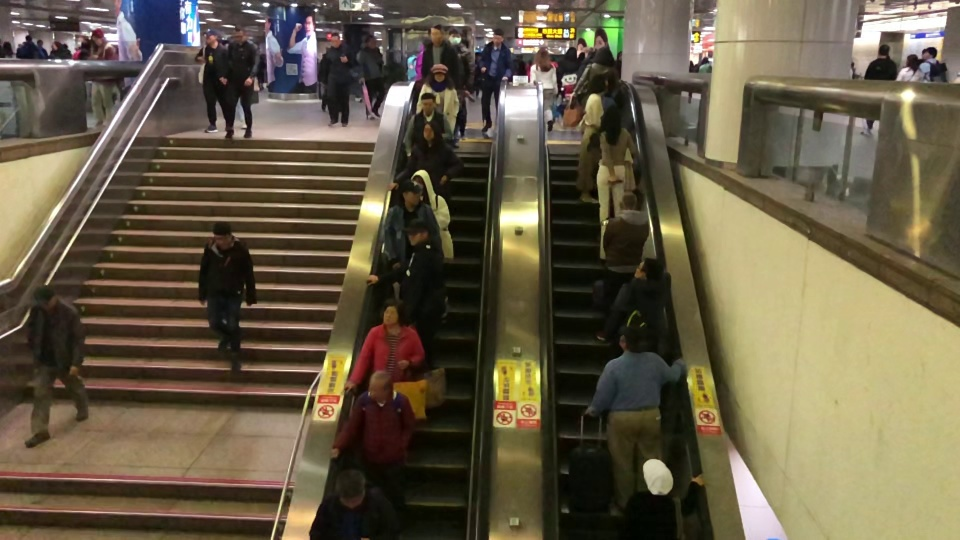person_head: (333, 468, 365, 507), (644, 468, 674, 496), (366, 370, 394, 399), (379, 297, 406, 325), (619, 327, 647, 351), (634, 256, 663, 278), (32, 284, 57, 307), (212, 221, 233, 246), (601, 105, 621, 128), (407, 225, 428, 244), (595, 46, 614, 65), (403, 181, 420, 202), (421, 120, 438, 140), (420, 93, 437, 112), (618, 191, 637, 208), (590, 73, 607, 91), (430, 24, 445, 43), (430, 64, 446, 80), (448, 27, 463, 44), (411, 172, 426, 189), (232, 26, 247, 41), (491, 27, 504, 43), (535, 47, 549, 61), (329, 31, 342, 46), (905, 54, 918, 67), (606, 71, 618, 85), (923, 46, 937, 58), (91, 30, 103, 43), (364, 34, 376, 47), (878, 44, 890, 57), (565, 47, 577, 59), (205, 31, 218, 42), (75, 37, 83, 46), (24, 34, 32, 41), (702, 56, 708, 63)
person_vbox: (584, 327, 687, 513), (24, 284, 90, 451), (366, 226, 448, 337), (198, 221, 257, 375), (330, 370, 416, 469), (343, 297, 426, 396), (596, 192, 650, 342), (595, 105, 639, 263), (411, 172, 455, 322), (309, 468, 397, 540), (605, 256, 671, 350), (622, 467, 707, 539), (383, 181, 442, 270), (389, 119, 462, 190), (222, 26, 259, 141), (576, 73, 606, 204), (477, 26, 513, 134), (860, 44, 897, 137), (194, 30, 227, 132), (403, 93, 451, 158), (86, 31, 119, 125), (448, 28, 475, 139), (415, 64, 459, 132), (421, 24, 466, 86), (325, 31, 353, 129), (356, 34, 386, 120), (529, 47, 557, 130), (573, 46, 617, 93), (911, 46, 946, 82), (556, 47, 577, 99), (603, 71, 629, 109), (16, 33, 43, 58), (895, 54, 918, 80), (71, 36, 87, 60), (698, 55, 712, 73)
